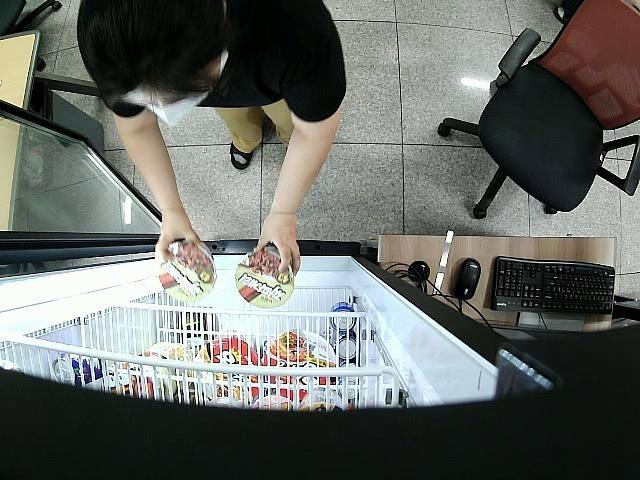03_chapagetti_L: (234, 246, 295, 310), (158, 240, 216, 302)
